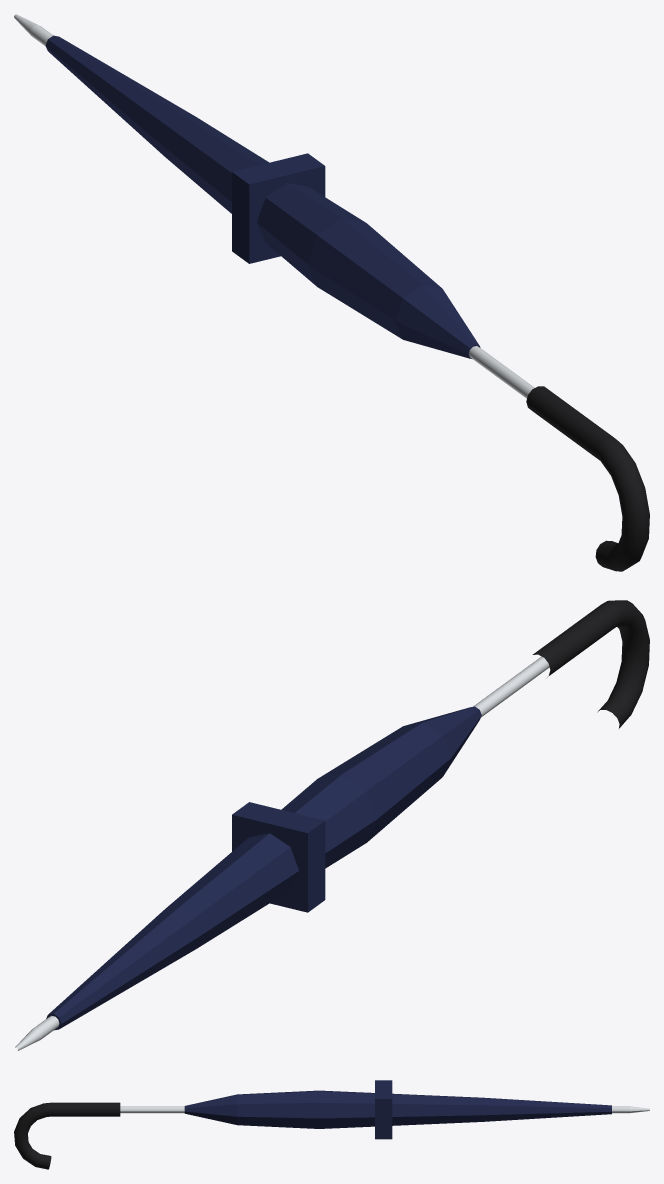
File: umbrella.glb
3 views of the same model, one above another, from view 1: azimuth 30°, elevation 25°; view 2: azimuth 150°, elevation 25°; view 3: azimuth 270°, elevation 25° (orthographic). The views are drawn at different scales.
Visible parts, largest first — view 1: Umbrella; view 2: Umbrella; view 3: Umbrella.
Boxes of the visible parts, box(x1,y1,x2,y2) form: Umbrella: box(14, 14, 649, 571); Umbrella: box(15, 600, 649, 1050); Umbrella: box(14, 1080, 649, 1169).
Bounding box in the file's own units: 0.076 × 0.1497 × 1.09.
